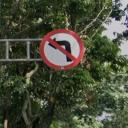NoVirarEsquerda: (41, 30, 84, 70)
